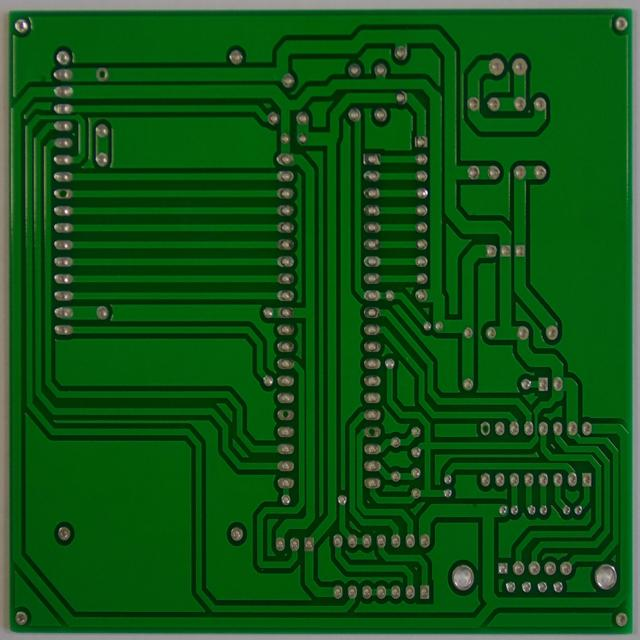missing_hole: (92, 64, 110, 83), (277, 405, 294, 424), (54, 184, 71, 202), (479, 420, 493, 438), (365, 423, 380, 439)
